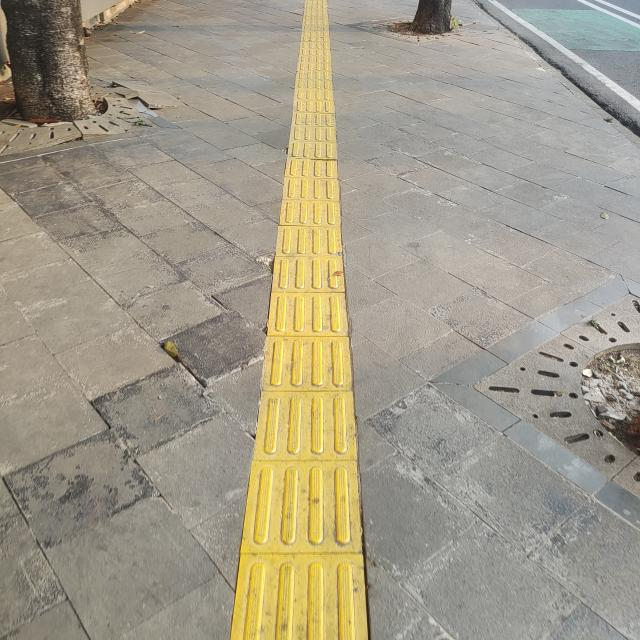lurus: (253, 7, 372, 640)
